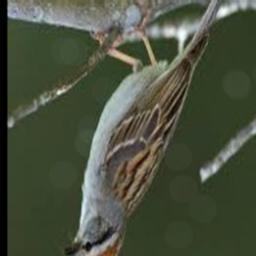Sparrow: (62, 0, 244, 256)
